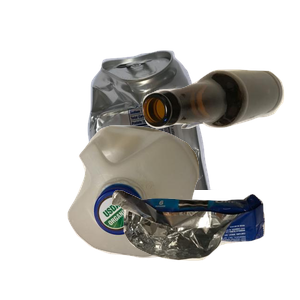glass: (140, 67, 300, 188)
metal: (85, 48, 300, 228)
plastic: (65, 123, 257, 300)
trash: (109, 187, 300, 300)
